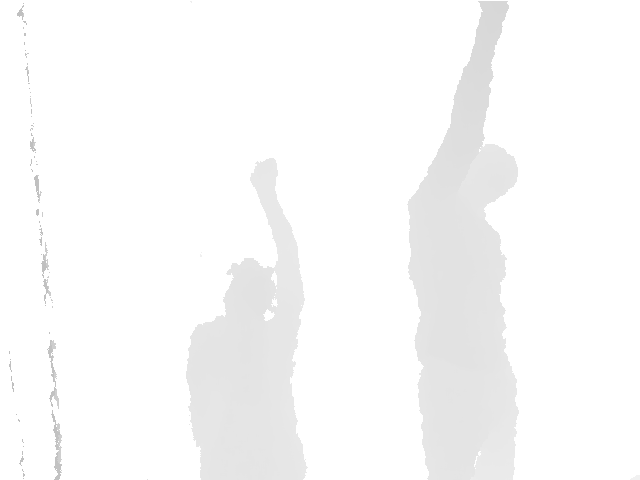hand: (249, 158, 281, 191)
head: (456, 145, 519, 210), (223, 257, 276, 321)
person: (405, 1, 519, 480), (184, 158, 308, 480)
